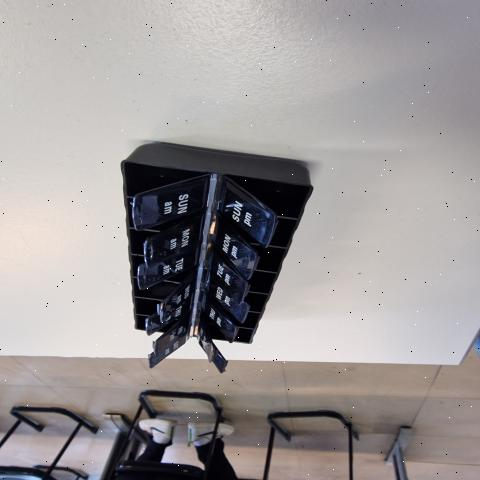Open: (125, 162, 209, 226), (226, 174, 312, 217), (129, 213, 198, 265), (225, 218, 299, 254), (131, 278, 184, 314), (133, 314, 176, 356), (202, 332, 251, 365), (134, 313, 183, 346), (247, 243, 287, 279), (211, 309, 261, 337), (240, 272, 278, 300), (242, 292, 271, 323), (133, 298, 161, 318), (128, 255, 147, 276)
